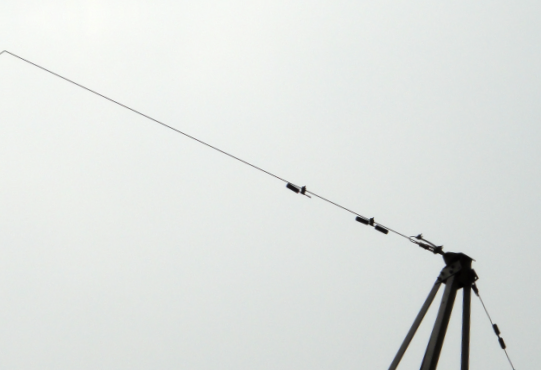damper: (353, 214, 390, 235), (491, 321, 507, 351)
damper_defect: (286, 181, 313, 199)
